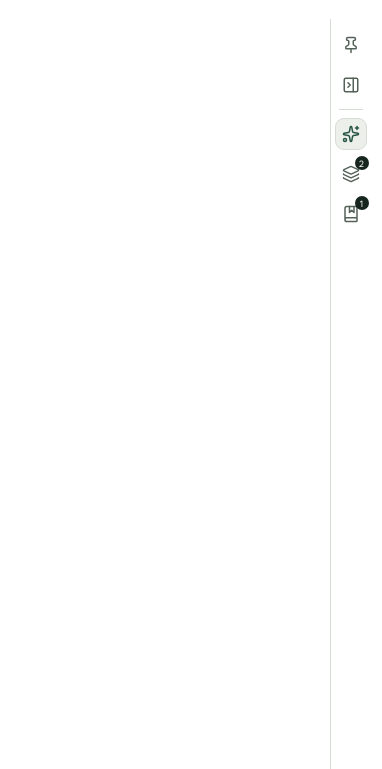
Test: ResearchSidebar › gathers every board card in one mode and other papers in another
Click the button named "카드 모드": (350, 174) x1=334 y1=158 x2=366 y2=190
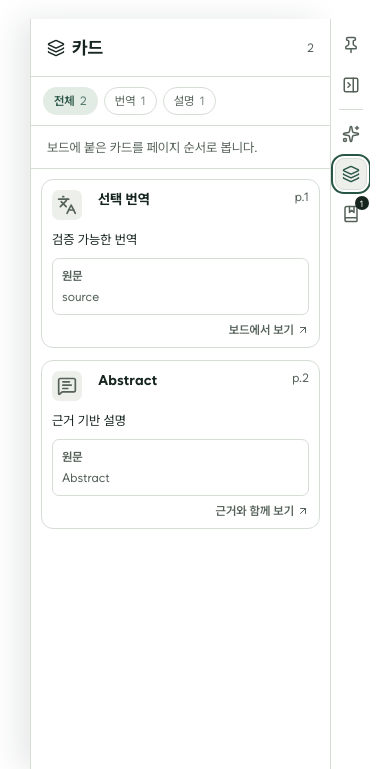
Check: the buttons read "전체2", "번역1", "설명1", in this order
Click the button "설명 1": (189, 101) x1=163 y1=87 x2=216 y2=115
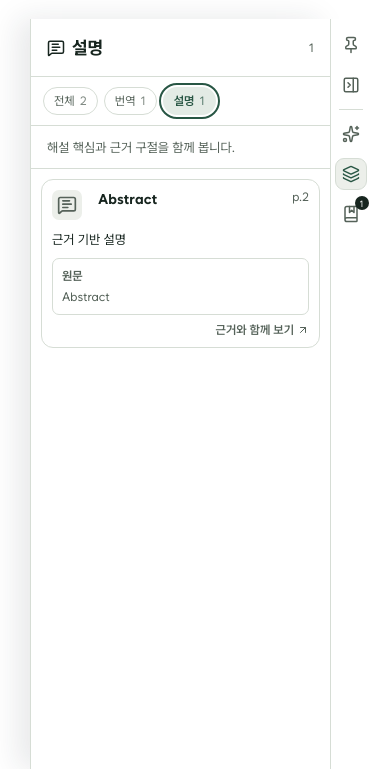
Check: the 1st text "Abstract" is shown, box x1=98 y1=191 x2=157 y2=207
Check: the element named "설명 인덱스" is shown
Check: the button "검증 가능한 번역" is gone
Click the button named "관련 논문 모드": (350, 214) x1=334 y1=198 x2=366 y2=230
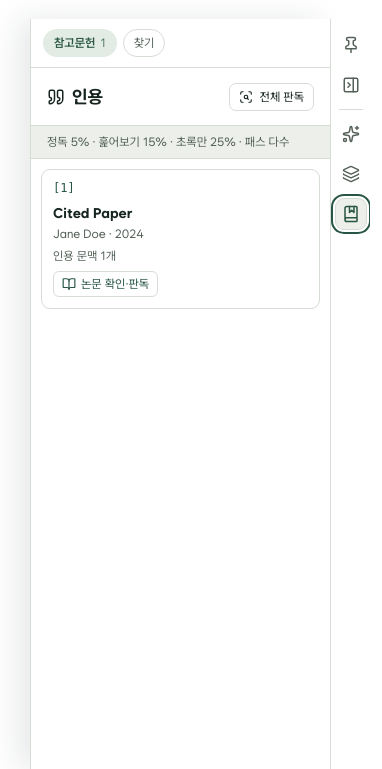
Check: the element named "인용 논문 판독" is shown
Click the button "찾기": (144, 43) x1=123 y1=29 x2=165 y2=57
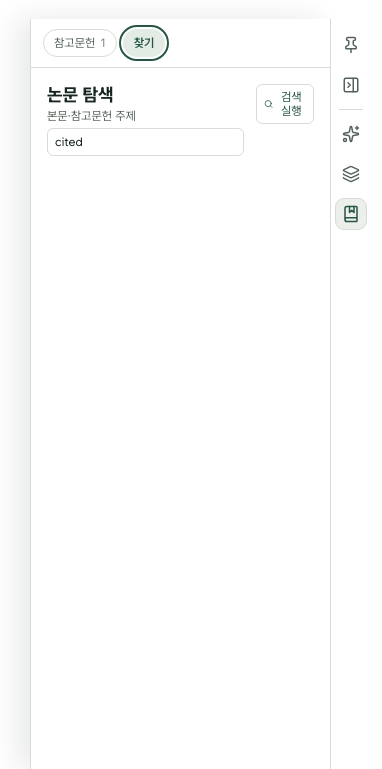
Check: the element named "관련 논문 탐색" is shown, box x1=47 y1=84 x2=314 y2=156
// Each mode keeps its choice when the reader comes back to it.
Click the button named "카드 모드": (350, 174) x1=334 y1=158 x2=366 y2=190
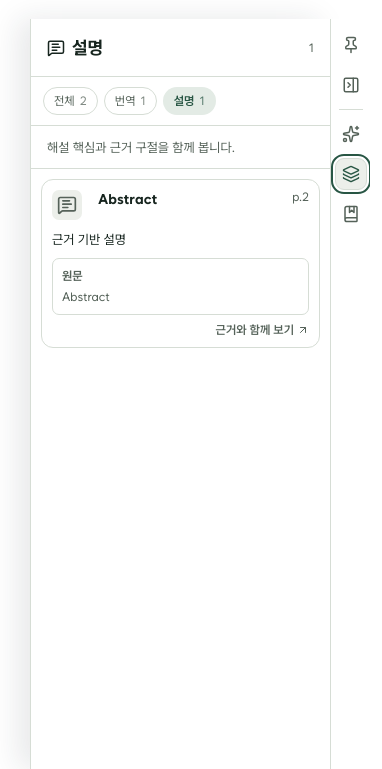
Check: the element named "설명 인덱스" is shown
